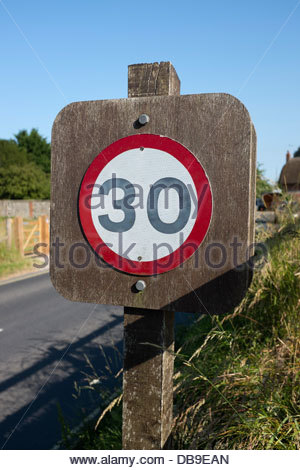Speed_limit_30km: (77, 133, 213, 275)
